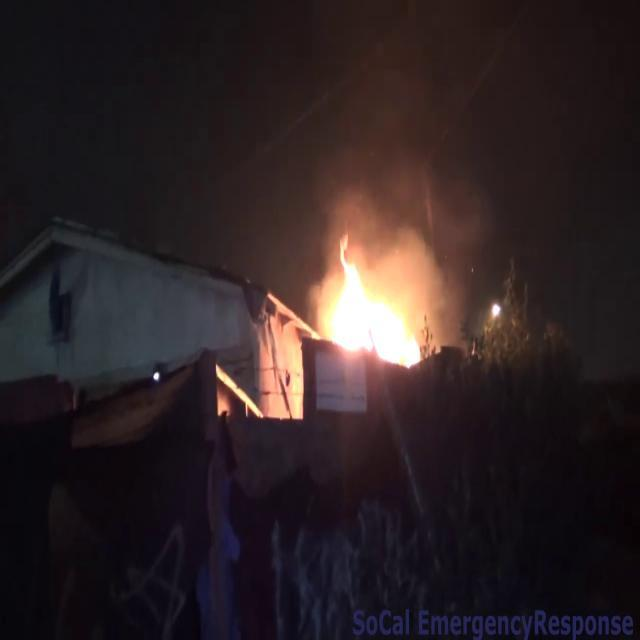Fire: (316, 238, 431, 370)
